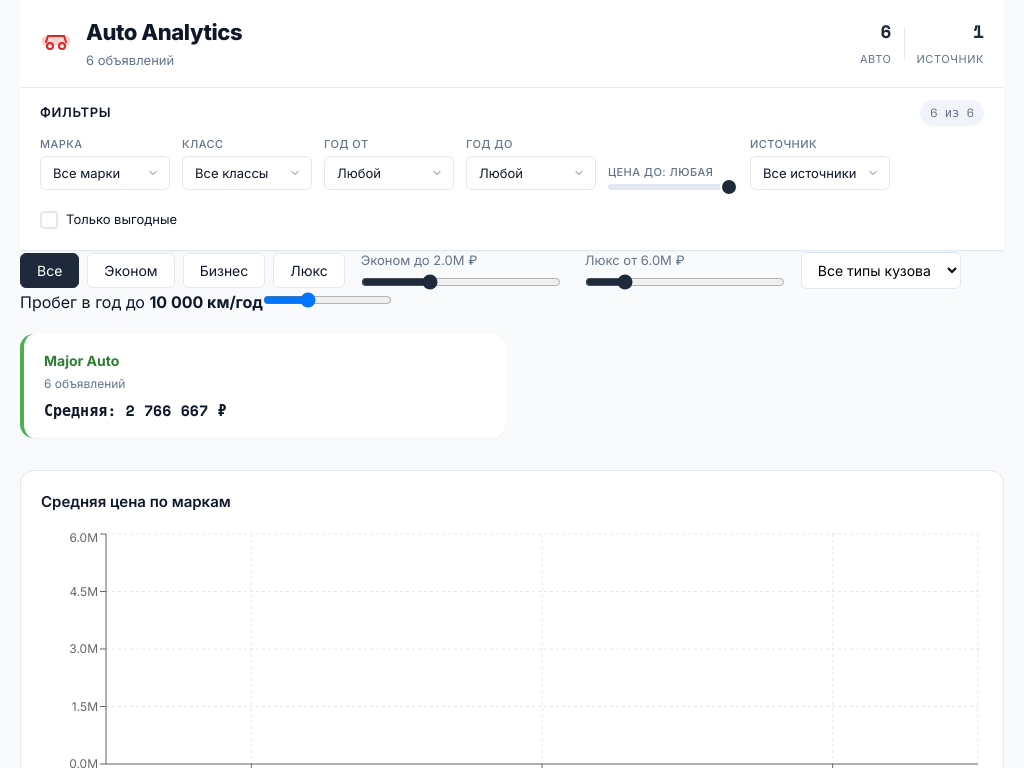
Scenario: App smoke tests › filters by body type via selector
Select "Внедорожник" in the dropdown named "Тип кузова" at (881, 270), box [801,252,961,289]
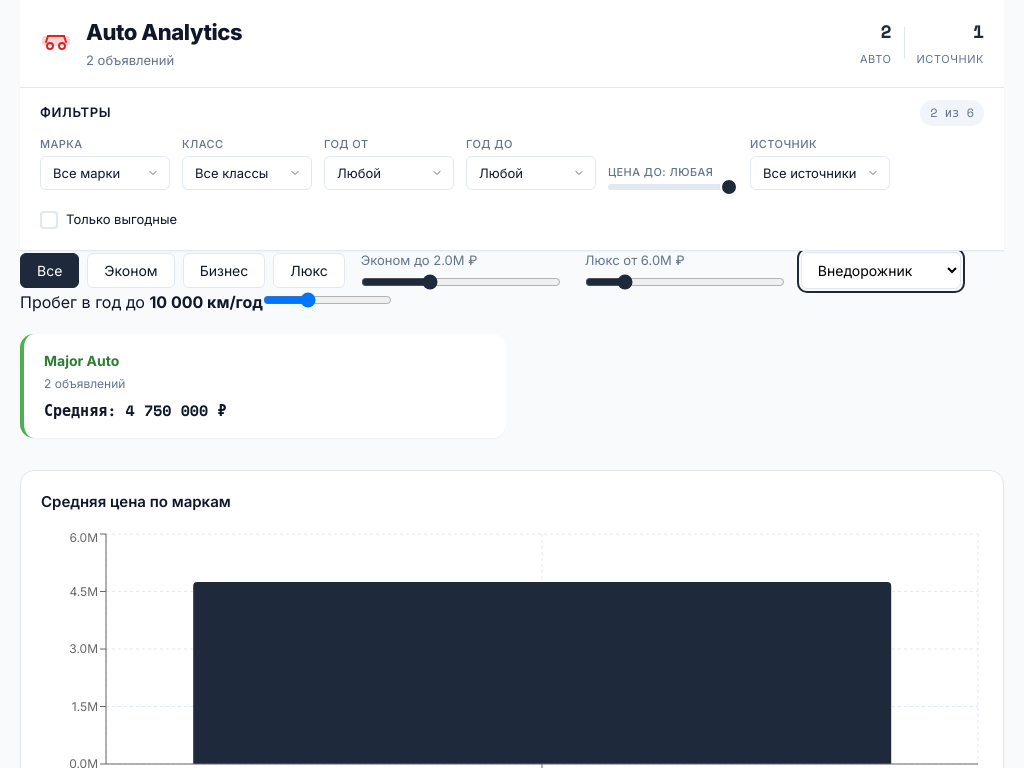
Expected: the text with class "header-subtitle" reads "2 объявлений", [86,52,174,68]
